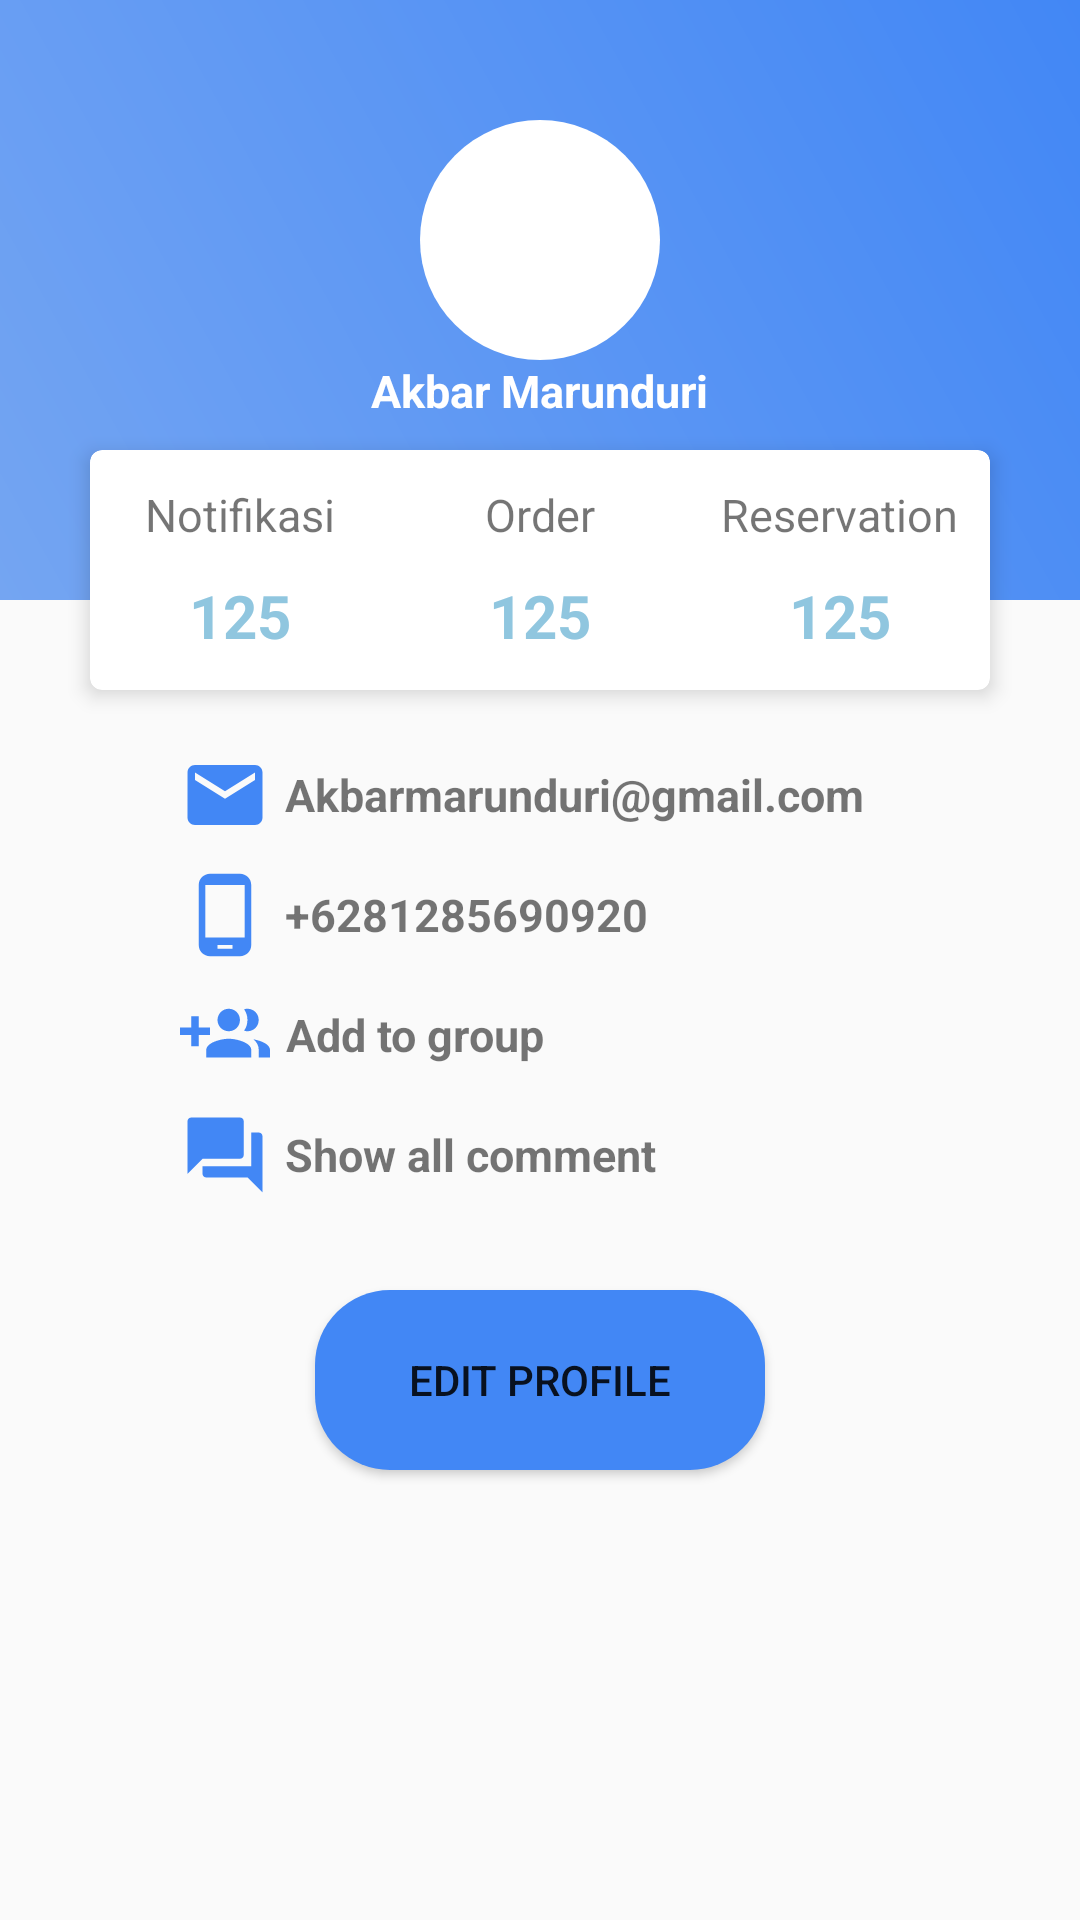

Icons on this 1080px×1920px Android screen, each with the point to tap as (x=x, y=y):
coment: (x=225, y=1154)
email: (x=225, y=795)
phone: (x=225, y=915)
